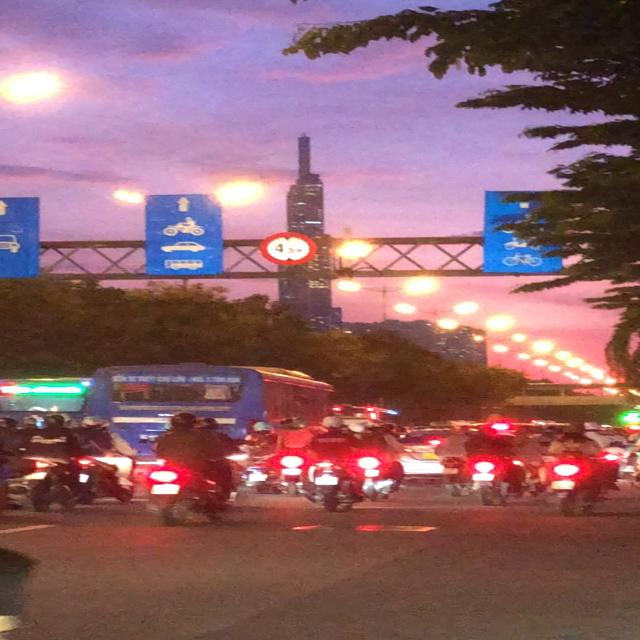Bien bao han che chieu cao: (258, 228, 317, 268)
